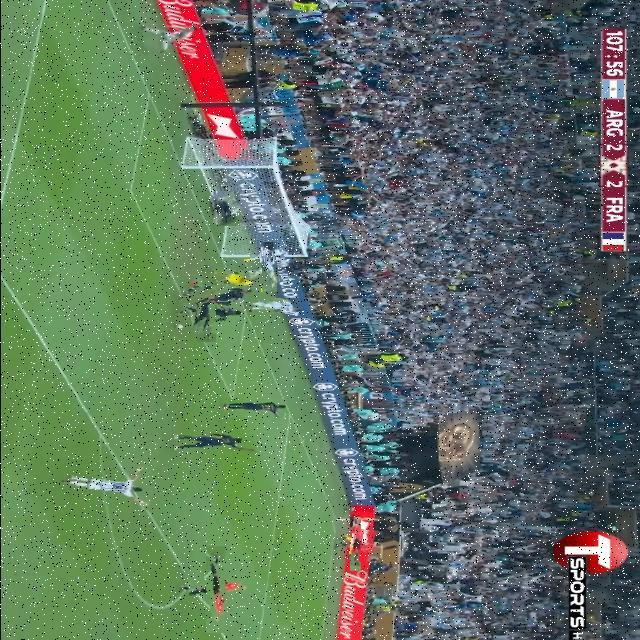ball: (168, 323, 186, 331)
goalkeeper: (201, 268, 261, 289)
player: (56, 470, 153, 508), (169, 432, 255, 458), (183, 287, 229, 333), (219, 400, 285, 420), (250, 250, 286, 286), (209, 192, 243, 226), (181, 288, 255, 303), (248, 296, 300, 315)
referee: (185, 561, 243, 619), (337, 527, 373, 563)
